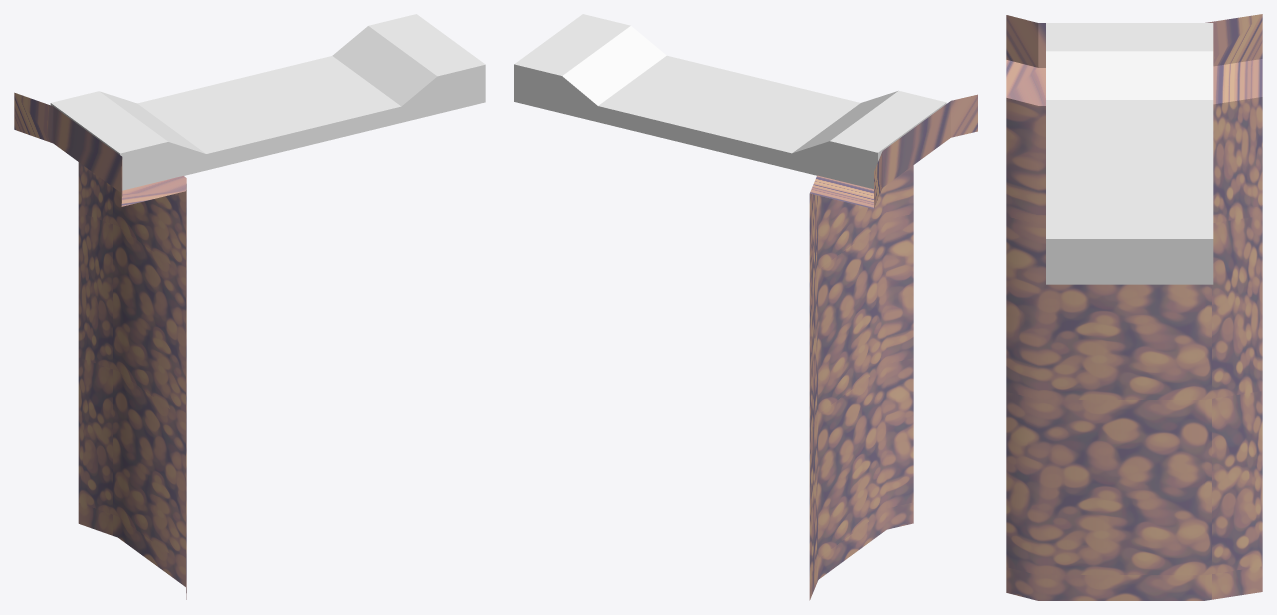
Rendered from Terrain2_side_colider.fbx.
3 renders of one model, left to right at view 1: azimuth 30°, elevation 25°; view 2: azimuth 150°, elevation 25°; view 3: azimuth 270°, elevation 25°, orthographic. The views are drawn at different scales.
Parts seen in each view (by area): view 1: Terrain2_Side_Colider, 다리__4_001; view 2: Terrain2_Side_Colider, 다리__4_001; view 3: Terrain2_Side_Colider, 다리__4_001.
Part boxes in pixels (left/top/right/bottom): Terrain2_Side_Colider: left=14, top=92, right=186, bottom=599; 다리__4_001: left=50, top=14, right=485, bottom=190; Terrain2_Side_Colider: left=809, top=94, right=977, bottom=600; 다리__4_001: left=514, top=14, right=946, bottom=189; Terrain2_Side_Colider: left=1006, top=14, right=1262, bottom=600; 다리__4_001: left=1046, top=23, right=1213, bottom=284.
Bounding box in the file's own units: 3278 × 3669 × 1576.
2 materials, 1 textured.
